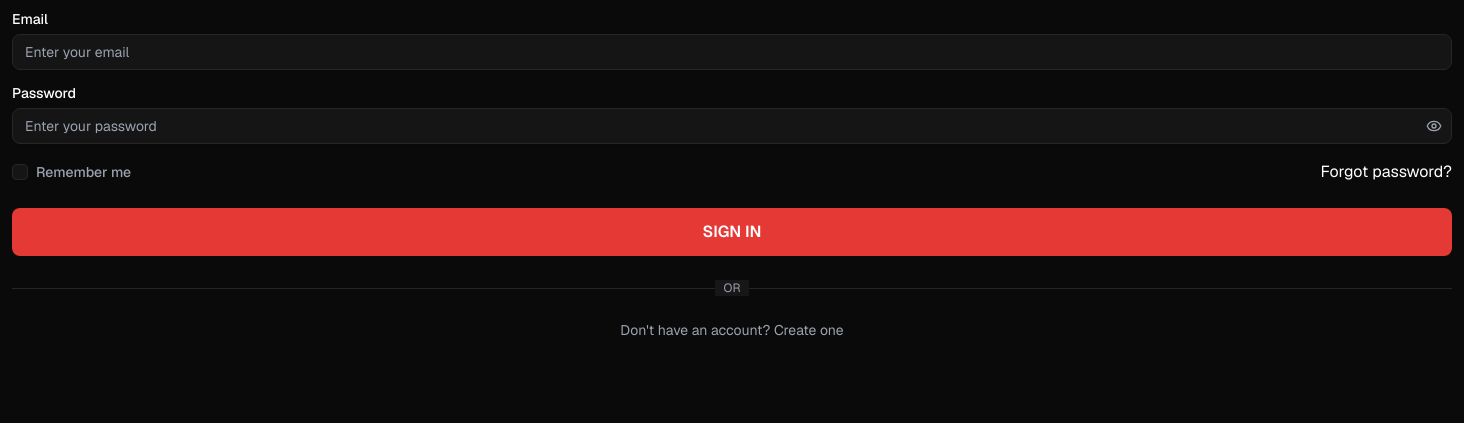
Test: LoginForm › error handling › shows 'Invalid email or password' for 401 response
The image size is (1464, 423).
Step 1. Type "test@test.com" into the field labelled "Email" → x=732, y=52, box 12,34 -> 1452,70
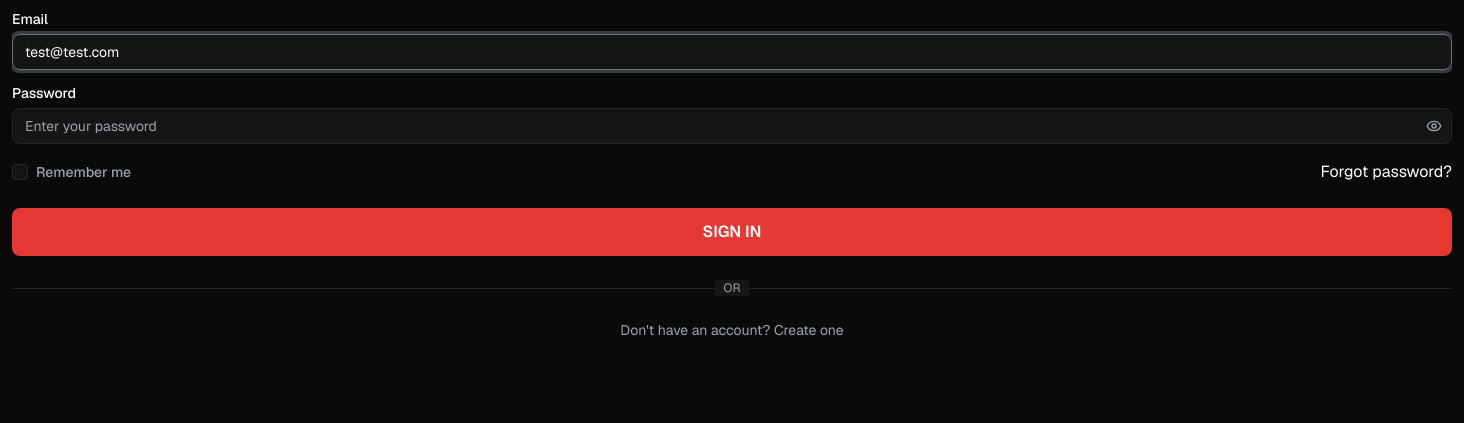
Step 2. Type "wrong" into the password field labelled "Password" → x=732, y=126, box 12,108 -> 1452,144
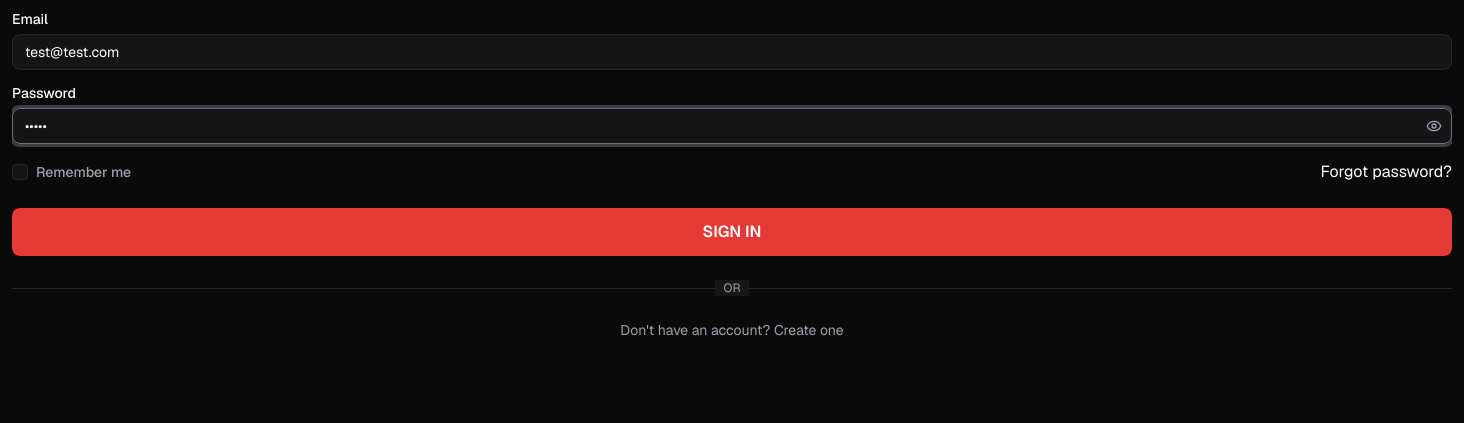
Step 3. Click the button "SIGN IN" → x=732, y=232, box 12,208 -> 1452,256
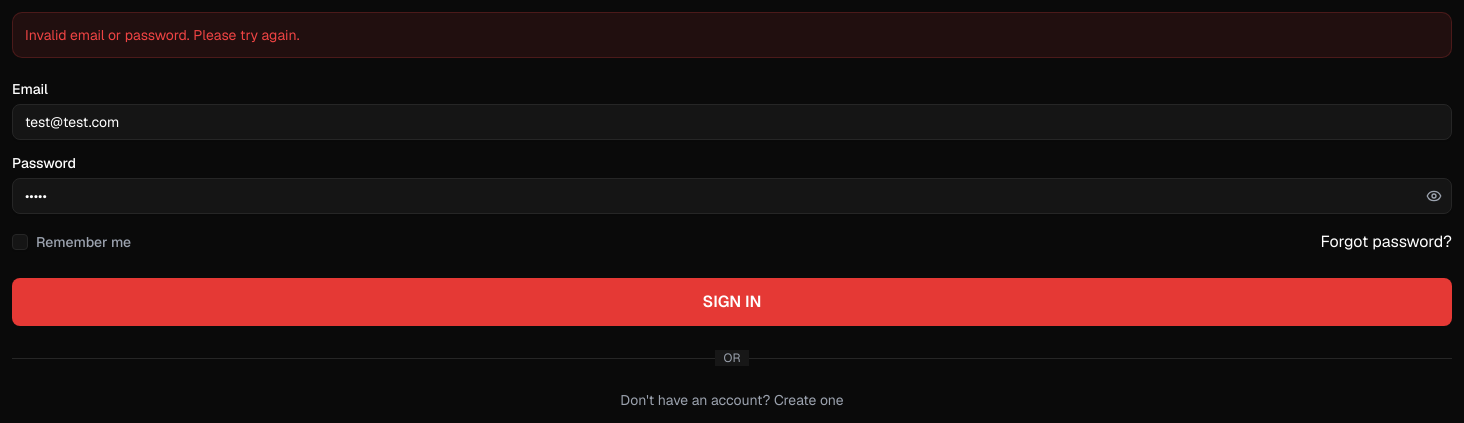
Now the text "Invalid email or password. Please try again." is shown, box 12,12 -> 1452,58
